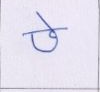e_matra: (35, 11, 54, 29)
